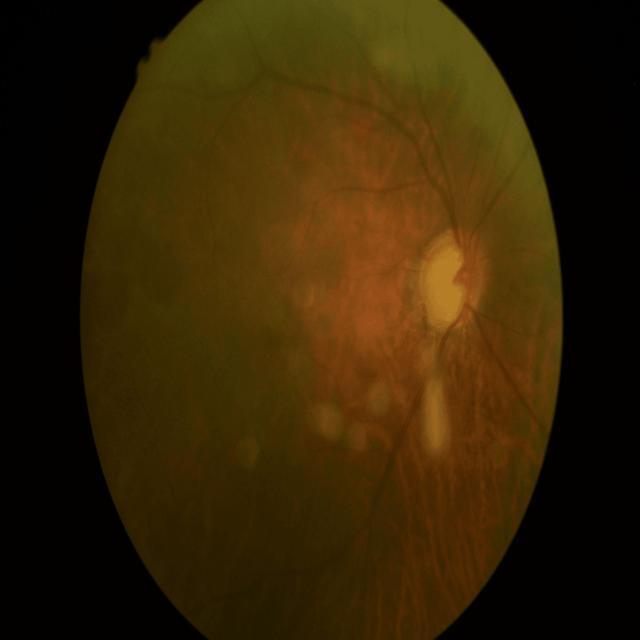cup: (428, 240, 474, 324)
disk: (420, 229, 488, 333)
